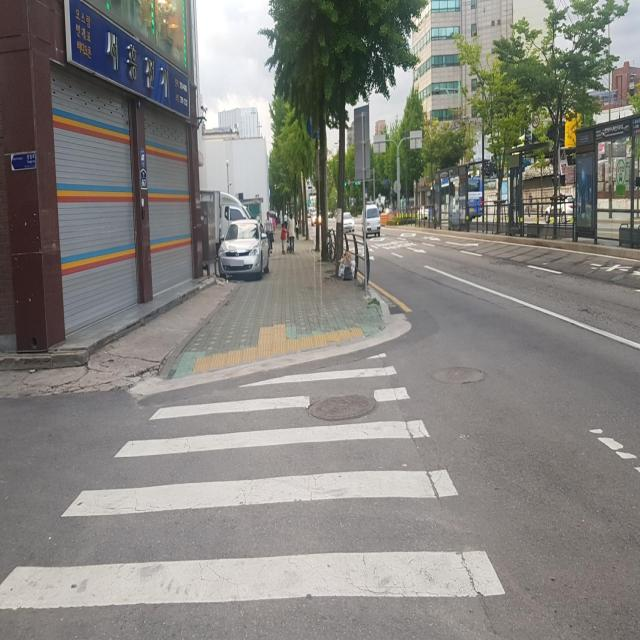횡단보도: (0, 349, 507, 613)
